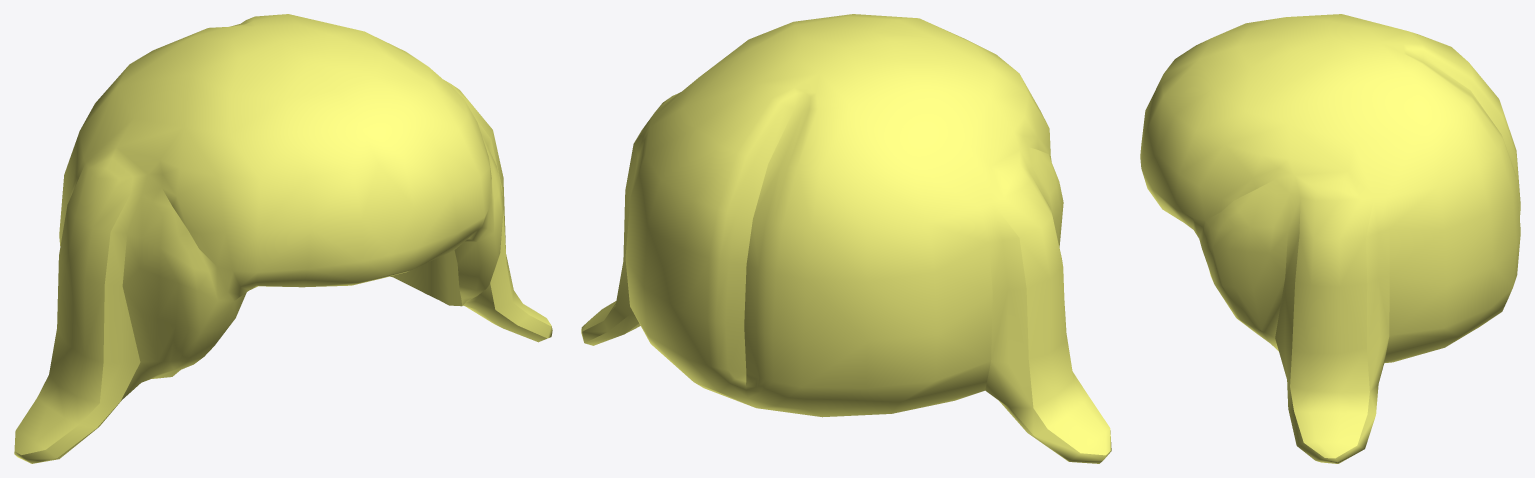
The model's file is HairPigtailsClassic.glb.
The picture shows the model from 3 angles, left to right: view 1: azimuth 30°, elevation 25°; view 2: azimuth 150°, elevation 25°; view 3: azimuth 270°, elevation 25°; orthographic projection. The views are drawn at different scales.
Parts seen in each view (by area): view 1: e:/codex/.cache/ldraw/ldraw/parts/3625.dat; view 2: e:/codex/.cache/ldraw/ldraw/parts/3625.dat; view 3: e:/codex/.cache/ldraw/ldraw/parts/3625.dat.
Part boxes in pixels (x1,y1,x2,y2): e:/codex/.cache/ldraw/ldraw/parts/3625.dat: (14,14,552,463); e:/codex/.cache/ldraw/ldraw/parts/3625.dat: (581,14,1111,463); e:/codex/.cache/ldraw/ldraw/parts/3625.dat: (1140,14,1520,463).
Bounding box in the file's own units: 0.0176 × 0.0113 × 0.0124.
